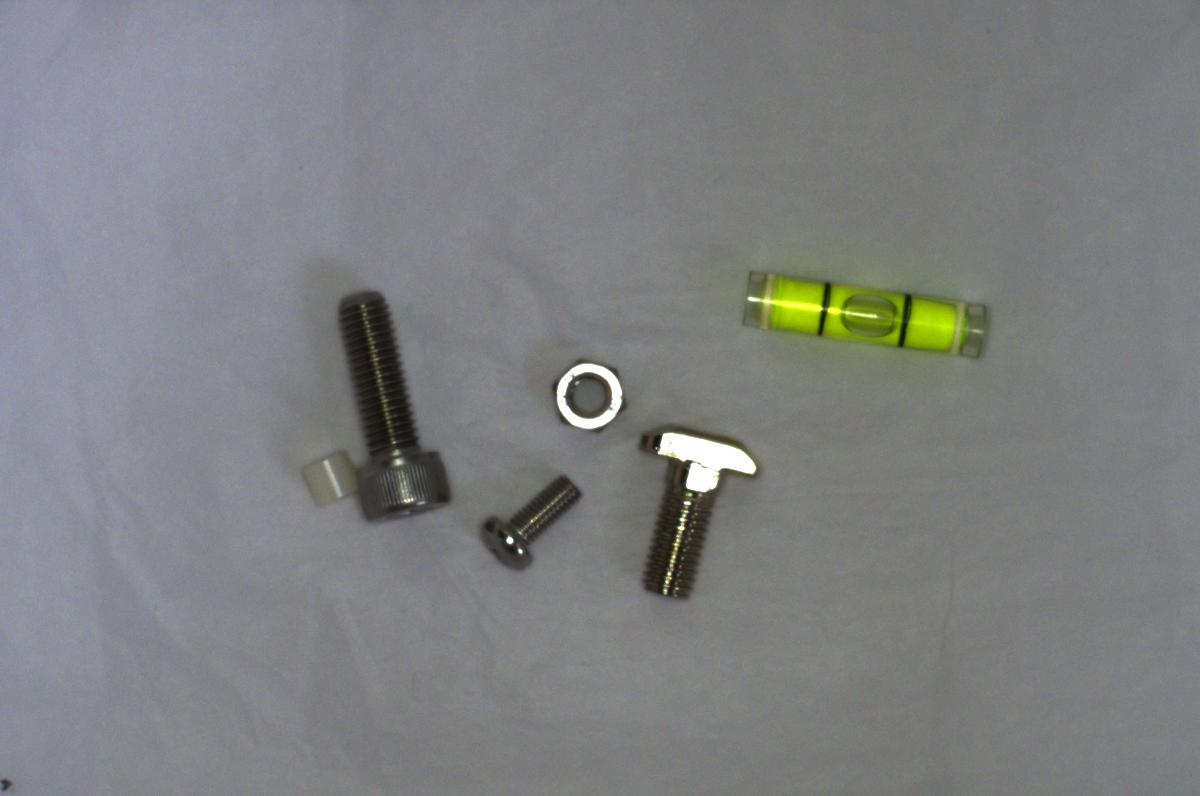Hexagon nut: (542, 350, 633, 439)
Hexagon screw: (332, 279, 452, 532)
Horizontal bubble: (734, 259, 994, 366)
Plastic cushion pillar: (295, 439, 364, 514)
Round head screw: (473, 463, 593, 573)
T-shaped screw: (630, 422, 758, 605)
